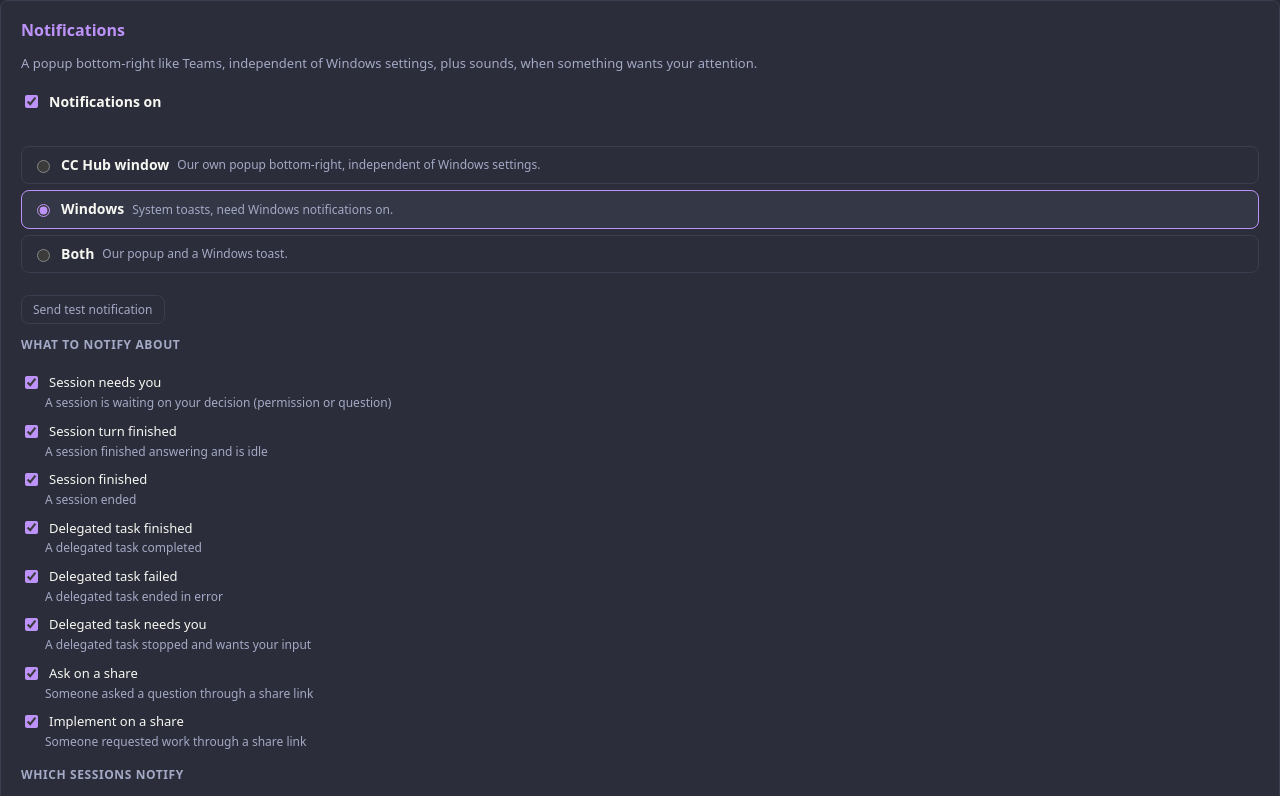
Test: a test in the Windows style goes through the hub and says where it was sent
Click the button "Send test notification": (93, 309) [21, 295, 164, 324]
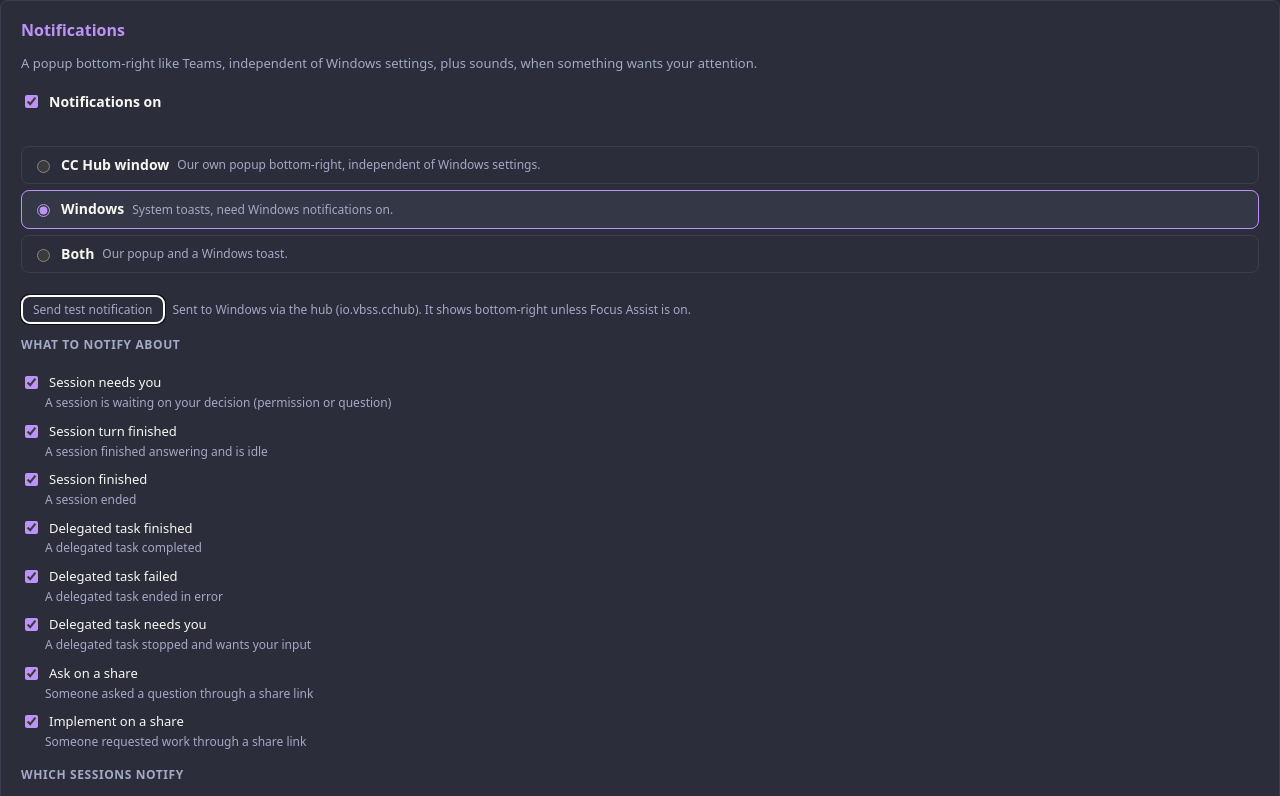
Result: the text "Sent to Windows via the hub (io.vbss.cchub). It shows bottom-right unless Focus Assist is on." is shown at [172, 301, 691, 318]
